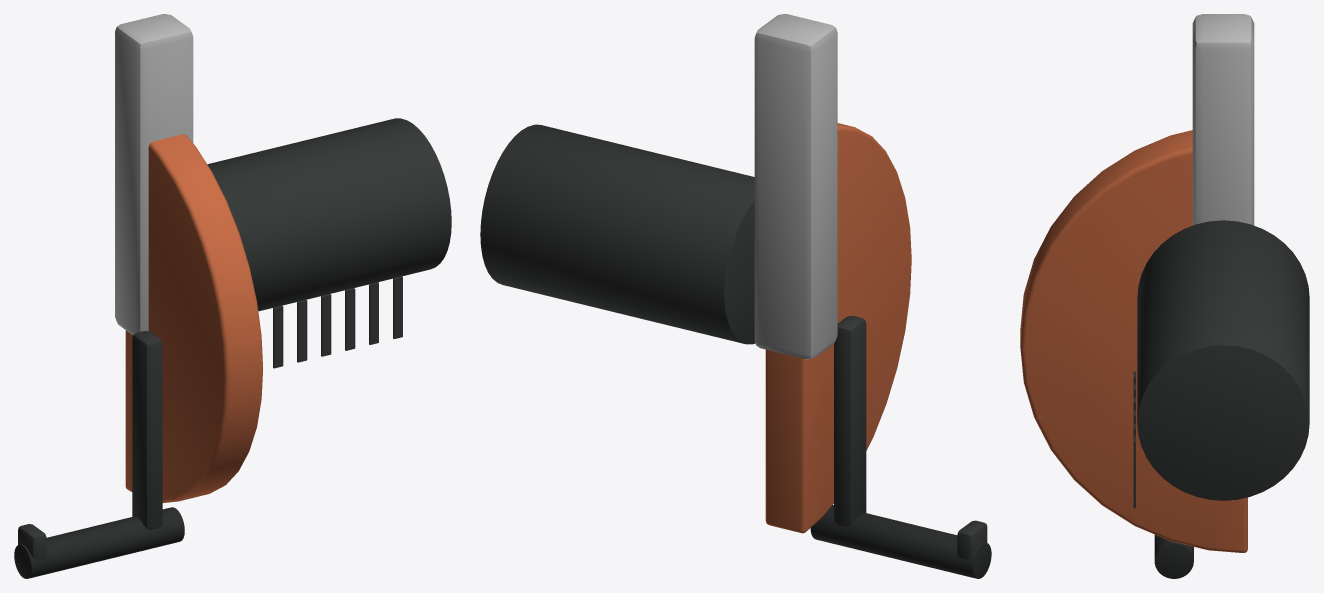
File: masonry_cutting_saw_saw_head.glb
3 renders of one model, left to right at view 1: azimuth 30°, elevation 25°; view 2: azimuth 150°, elevation 25°; view 3: azimuth 270°, elevation 25°, orthographic. The views are drawn at different scales.
Visible parts, largest first — view 1: masonry_cutting_saw_saw_head; view 2: masonry_cutting_saw_saw_head; view 3: masonry_cutting_saw_saw_head.
Boxes of the visible parts, x1,y1,x2,y2 form: masonry_cutting_saw_saw_head: (14, 14, 451, 578); masonry_cutting_saw_saw_head: (480, 14, 991, 578); masonry_cutting_saw_saw_head: (1020, 14, 1309, 578).
Bounding box in the file's own units: 0.43 × 0.496 × 0.235.
